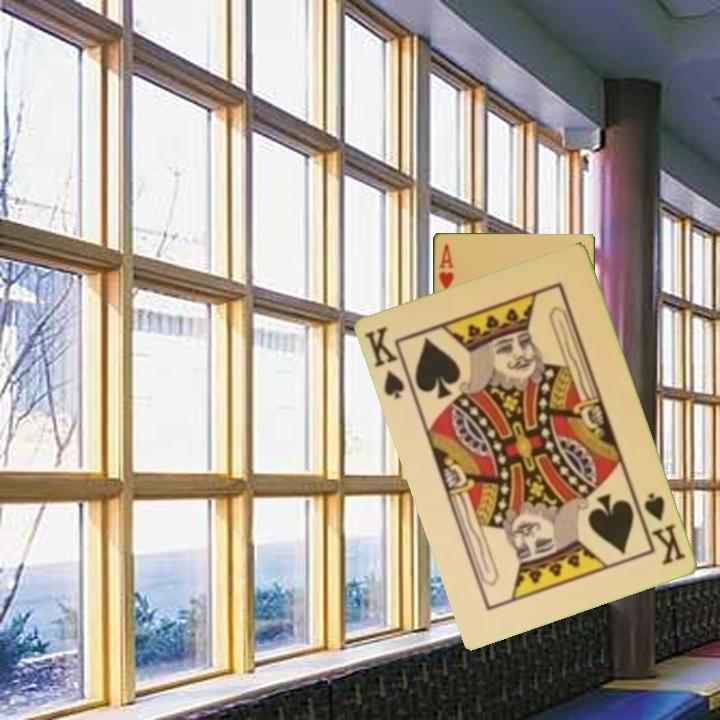Ah: (435, 240, 456, 292)
Ks: (362, 323, 417, 403), (641, 489, 689, 568)
